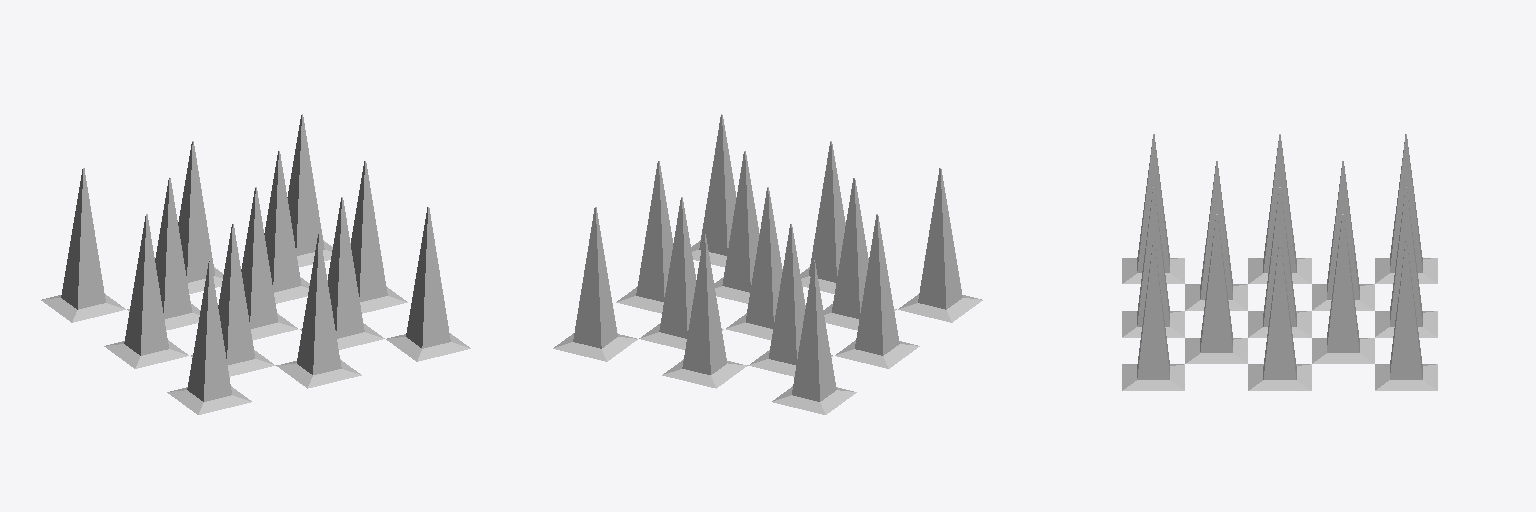
The model's file is Spikes A.obj.
The picture shows the model from 3 angles: view 1: azimuth 30°, elevation 25°; view 2: azimuth 150°, elevation 25°; view 3: azimuth 270°, elevation 25°; orthographic projection.
Parts seen in each view (by area): view 1: Spikes001; view 2: Spikes001; view 3: Spikes001.
Boxes of the visible parts, x1,y1,x2,y2 form: Spikes001: [41, 114, 470, 414]; Spikes001: [553, 114, 982, 414]; Spikes001: [1122, 134, 1437, 390].
Size of the model in its own units: 127 by 60.66 by 127.